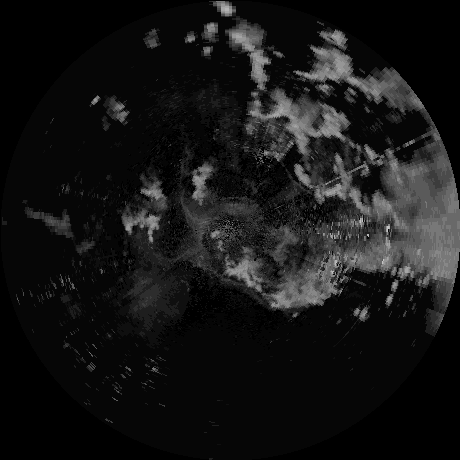frontgust: (278, 162, 313, 195), (218, 276, 262, 302), (177, 152, 189, 211)
